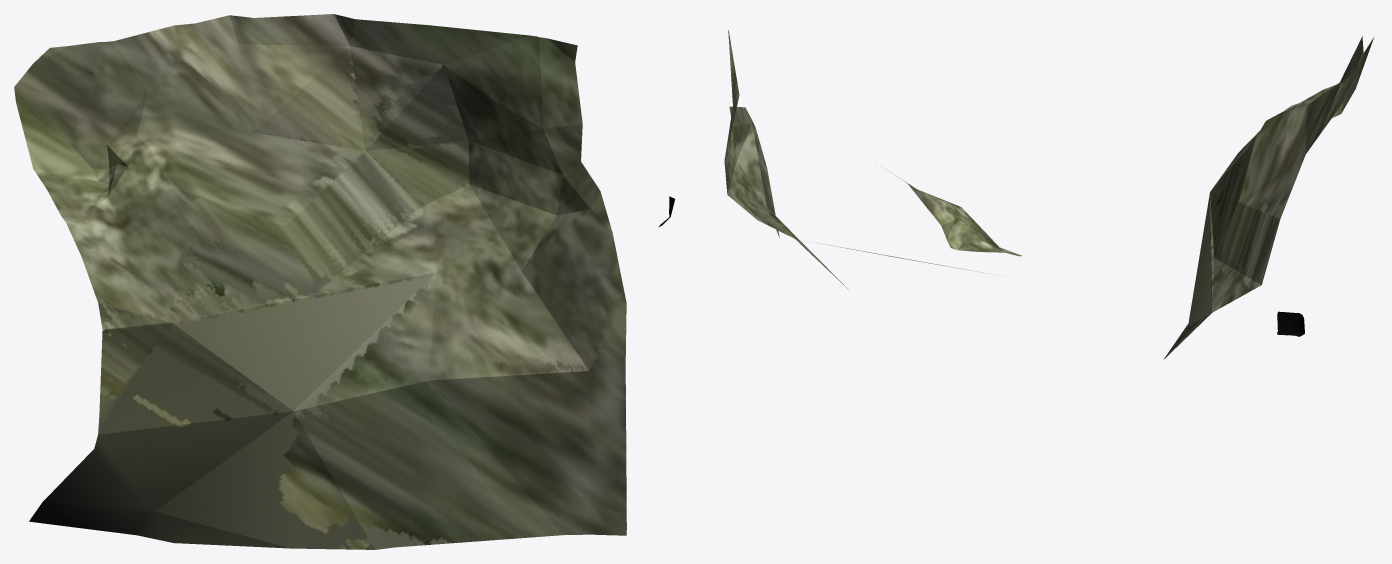
3 views of the same model, side by side, from view 1: azimuth 30°, elevation 25°; view 2: azimuth 150°, elevation 25°; view 3: azimuth 270°, elevation 25° (orthographic). The views are drawn at different scales.
Size of the model in its own units: 2.95 by 2.95 by 2.1.
3 materials, 3 textured.
